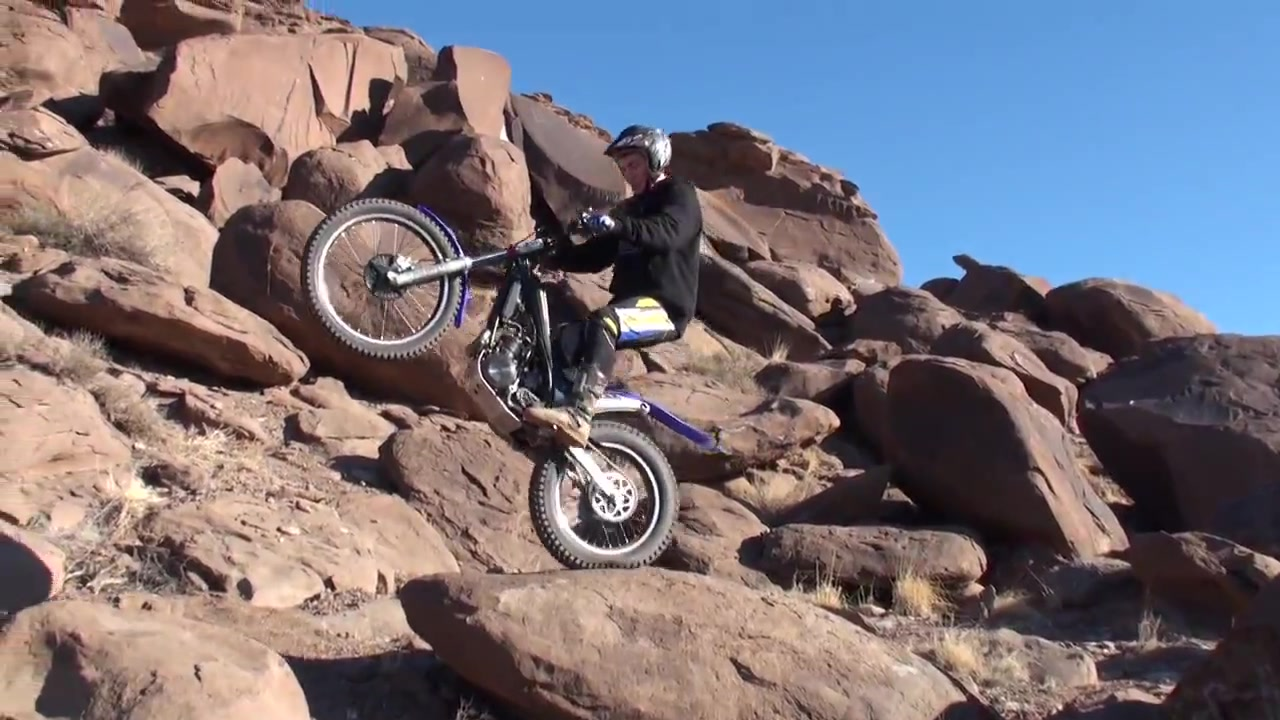motorbike: (303, 196, 720, 576)
